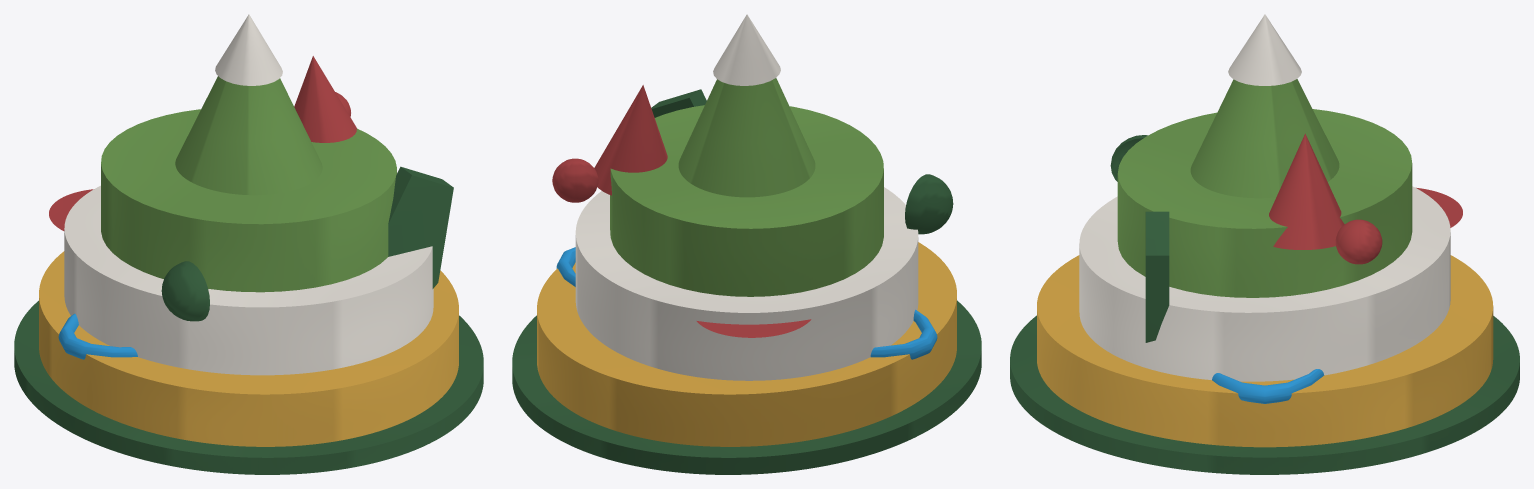
Rendered from 0763_长江黄河图鉴_河套平原.glb.
The picture shows the model from 3 angles, left to right: view 1: azimuth 30°, elevation 25°; view 2: azimuth 150°, elevation 25°; view 3: azimuth 270°, elevation 25°; orthographic projection.
Parts seen in each view (by area): view 1: card_0763; view 2: card_0763; view 3: card_0763.
Boxes of the visible parts, left/top/right/bottom form: card_0763: left=14, top=14, right=483, bottom=474; card_0763: left=512, top=14, right=981, bottom=474; card_0763: left=1010, top=14, right=1519, bottom=474.
Bounding box in the file's own units: 1.16 × 1 × 1.27.
